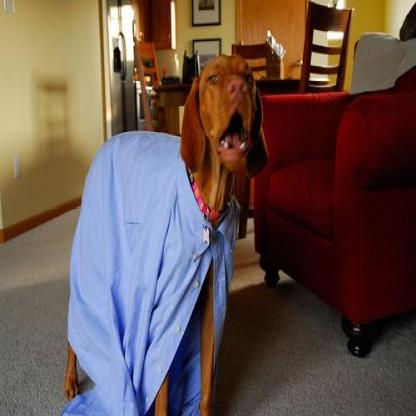vizsla: (62, 50, 268, 413)
